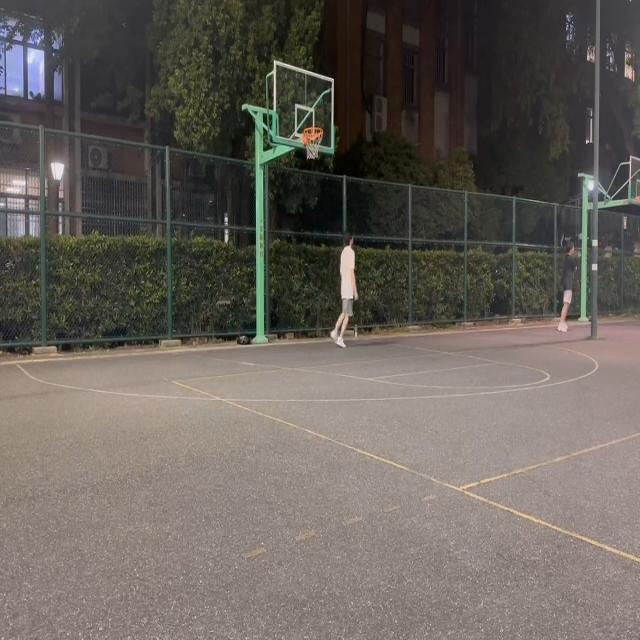basketball: (304, 126, 322, 161)
